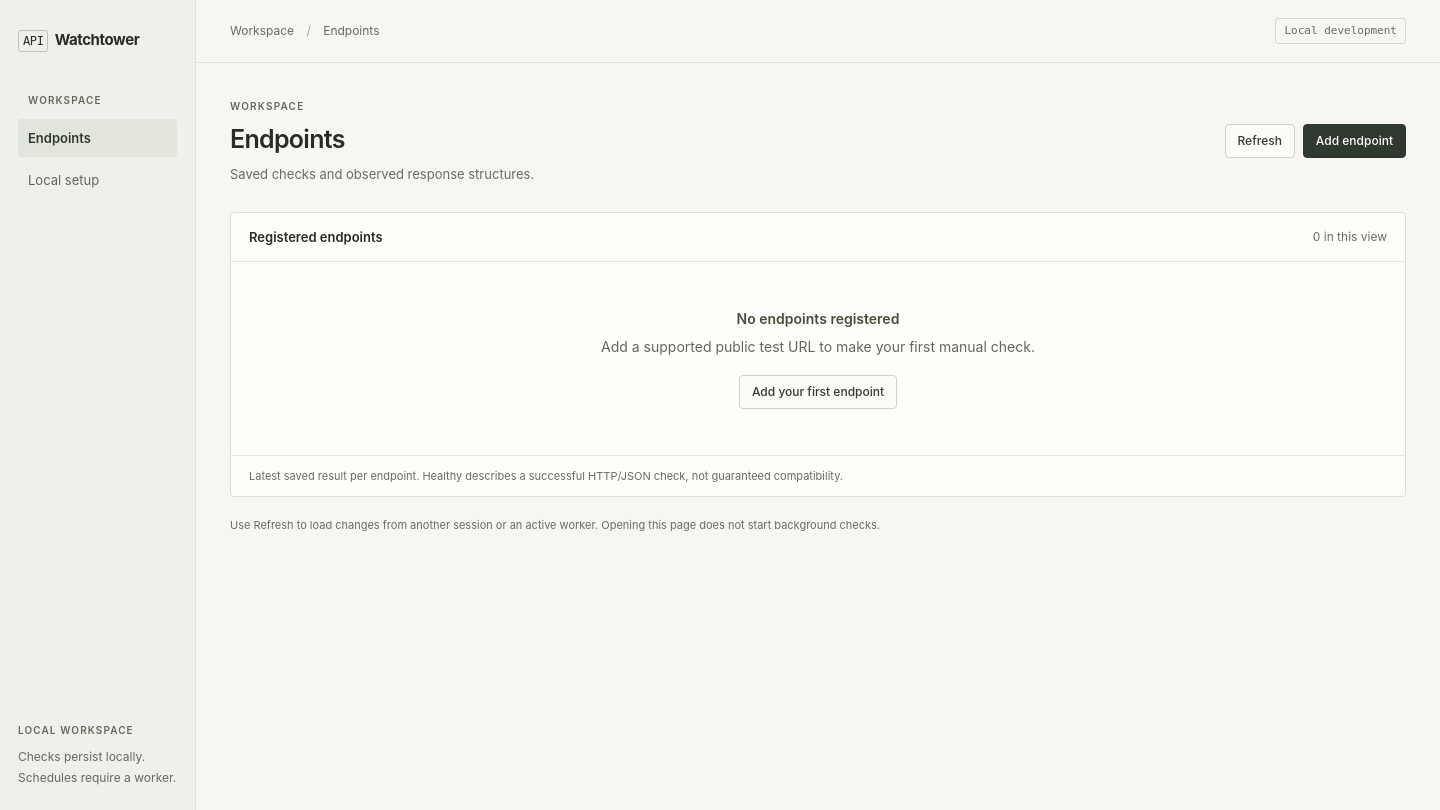
endpoint list and registration › validates names and unsupported URLs before registering
This screenshot has width=1440, height=810.
Click the button "Add endpoint": point(1354, 141) x1=1303 y1=124 x2=1406 y2=158
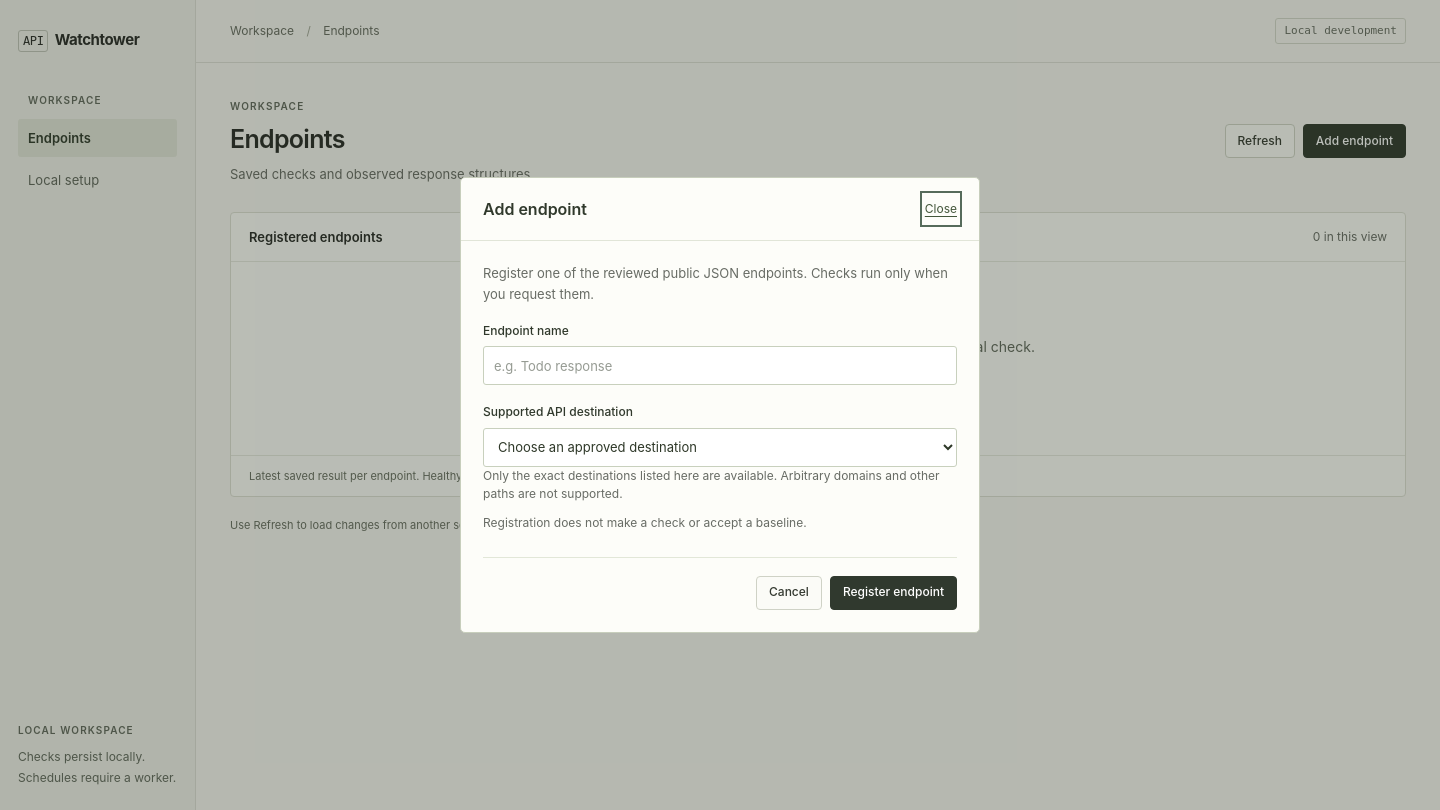
Click the button "Register endpoint": point(893, 593) x1=830 y1=576 x2=957 y2=610
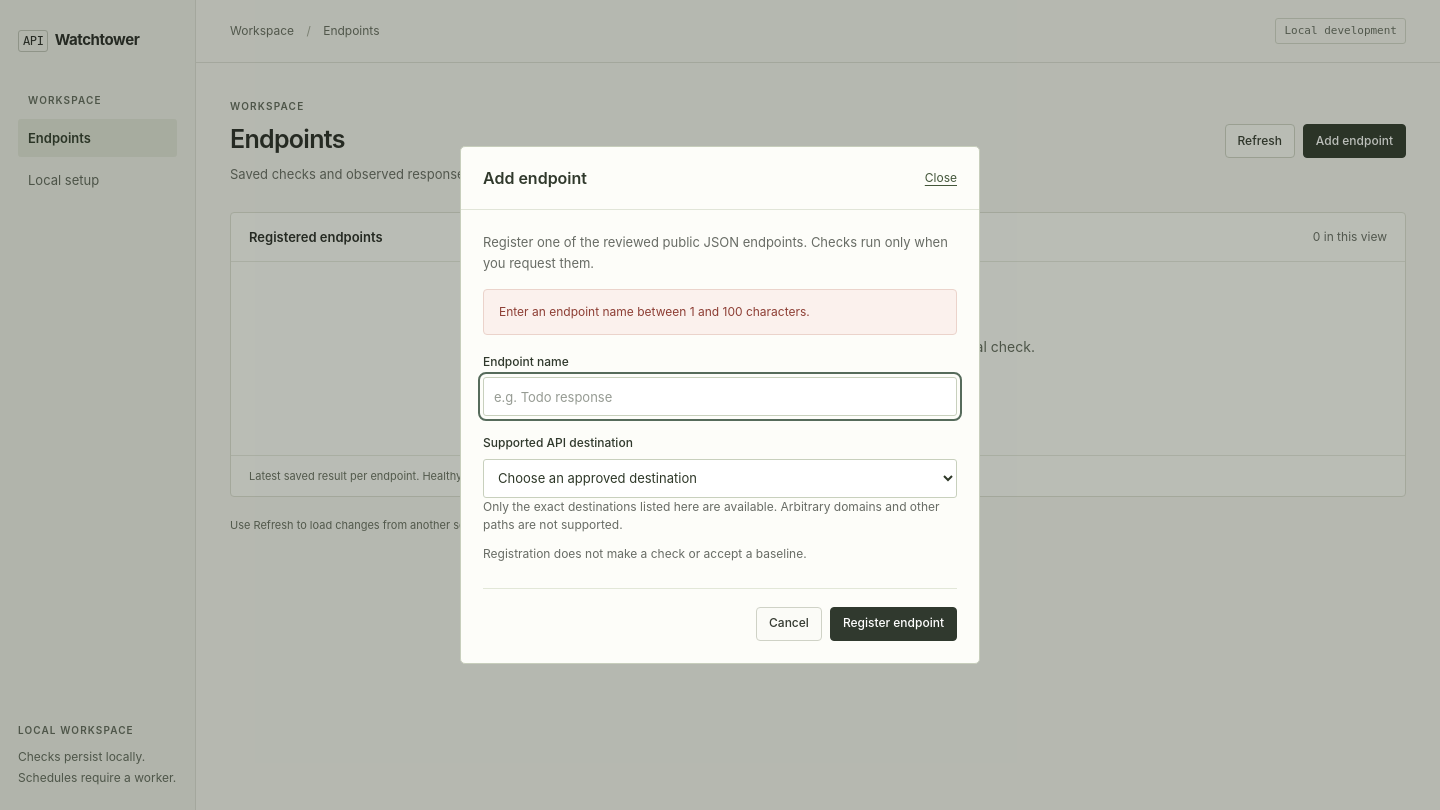
Result: the message shows "Enter an endpoint name" at x1=499 y1=304 x2=810 y2=319
In the field labelled "Endpoint name": point(720, 397) x1=483 y1=377 x2=957 y2=416, type "My API"
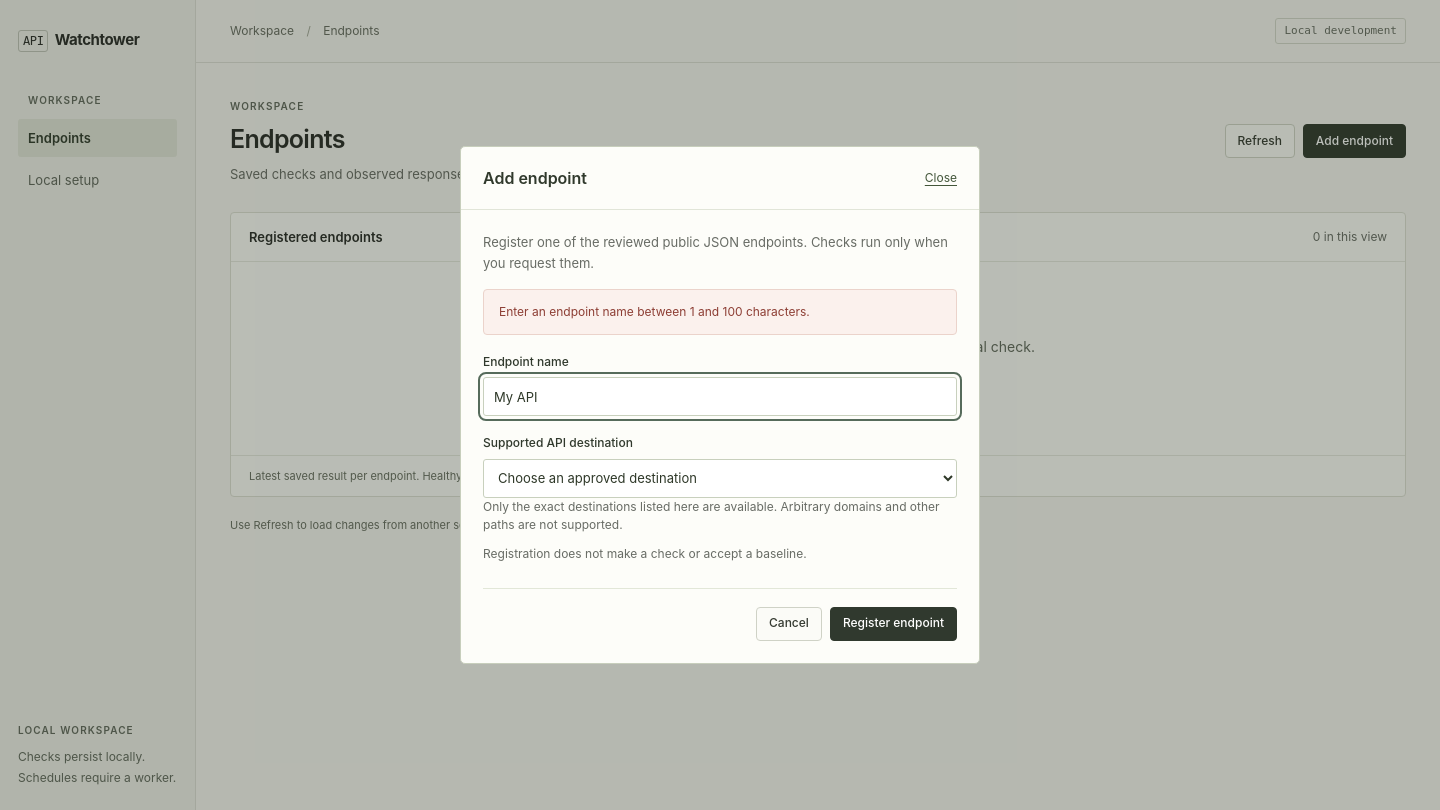
Click the button "Register endpoint": point(893, 624) x1=830 y1=606 x2=957 y2=640
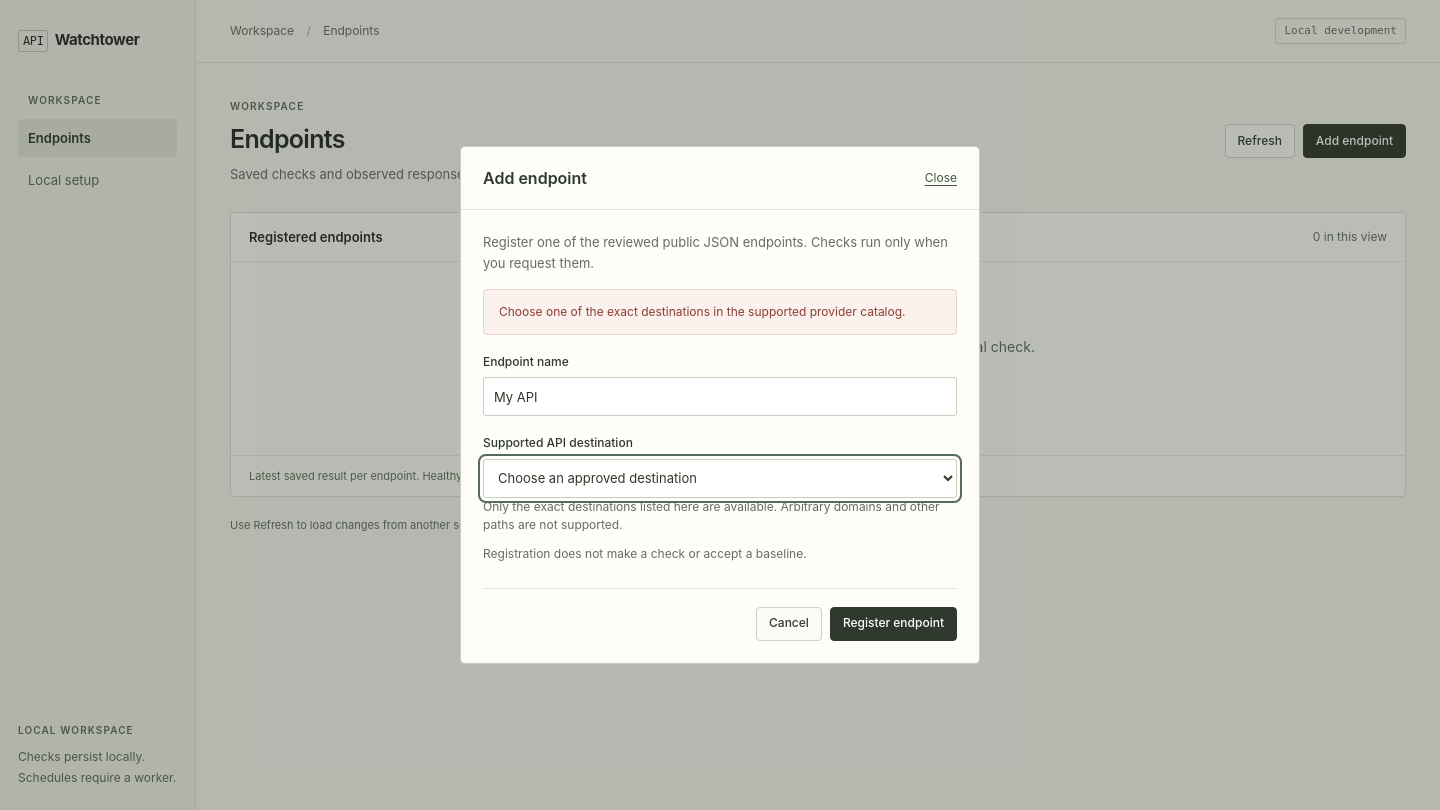
Result: the message reads "Choose one of the exact destinations in the supported provider catalog." at x1=499 y1=304 x2=906 y2=319
